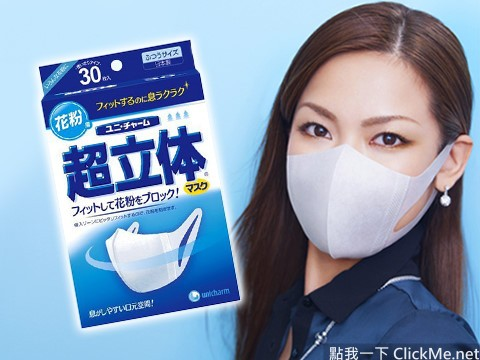mask: (289, 145, 428, 257)
